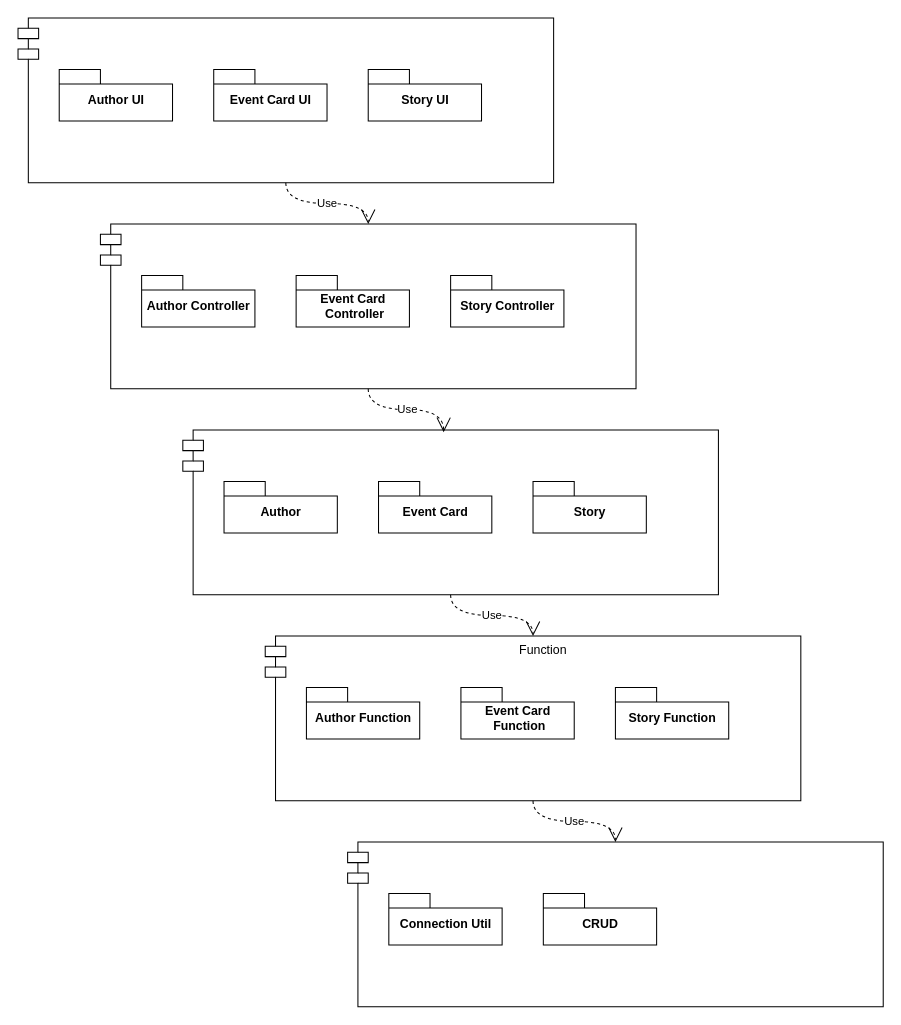
Image size: 901x1025. Some labels were removed from this diagram. The shapes that lost their labels are listed below. From the top down, each one's box as (x1, y1, x2, y2) in pixels, then its label:
(17, 17, 554, 183): GUI
(99, 223, 636, 389): Application
(182, 429, 718, 595): Domain
(347, 841, 883, 1007): Database
